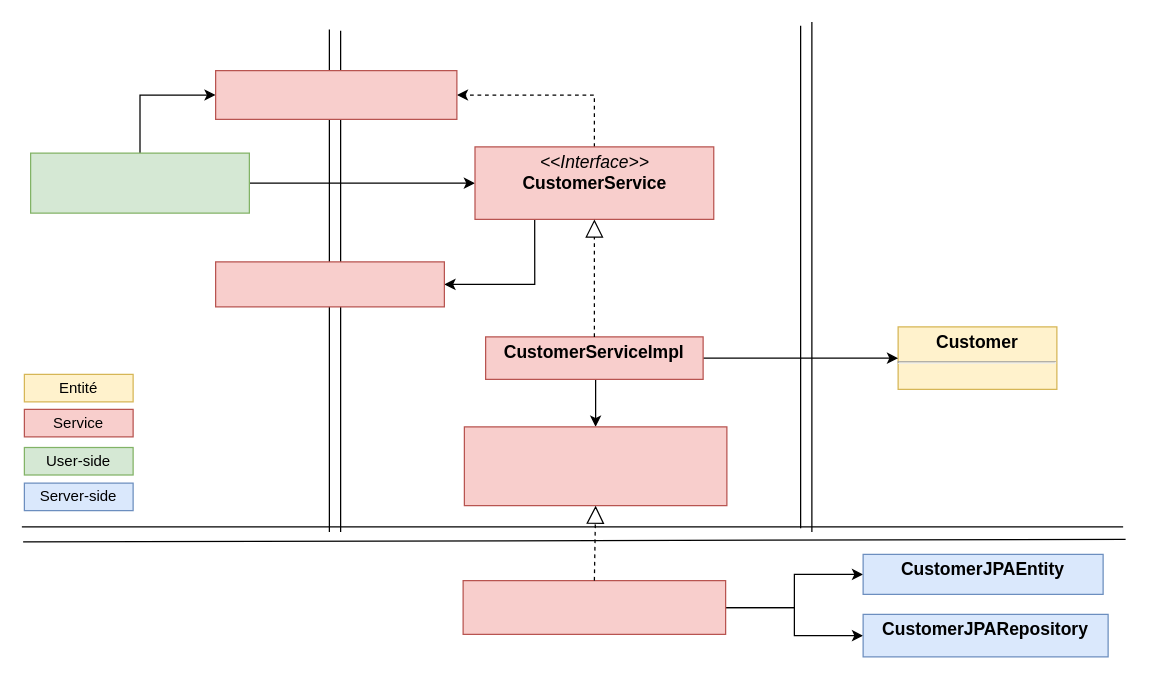
Image size: 1149x679. Some labels were removed from this diagram. The shapes that lost their labels are listed below. From the top down, each one's centre as x and y in pixels, then its label:
At pixel 335 94: "RegisterCustomerDTO".
At pixel 139 182: "CustomerController".
At pixel 329 284: "ResponseCustomerModel".
At pixel 595 466: "<<interface>> CustomerRegisterGateway".
At pixel 594 606: "CustomerRegisterGatewayImpl".
